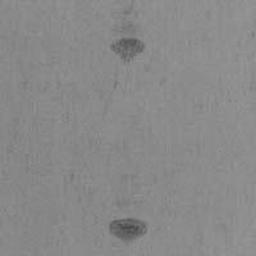Oil spot: (109, 0, 147, 68), (108, 215, 150, 251)
